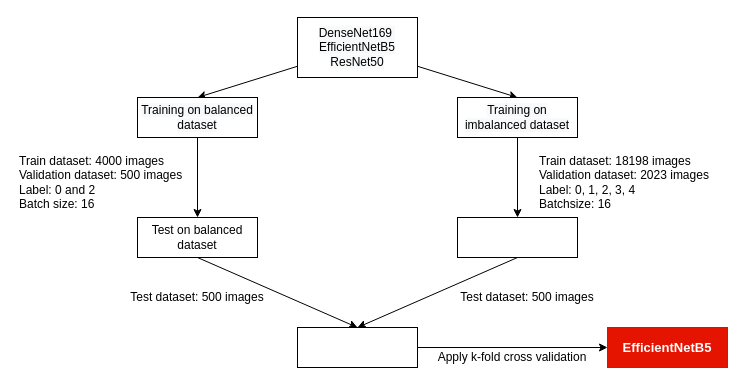
Some shapes in this 745 by 385 pixel diagram are drawn without their labels. The shapes that lost their labels are listed below. From the top down, each one's centre as x and y in pixels, then its label:
[517,237]: Test on imbalanced dataset
[357,347]: Choose suitable model
